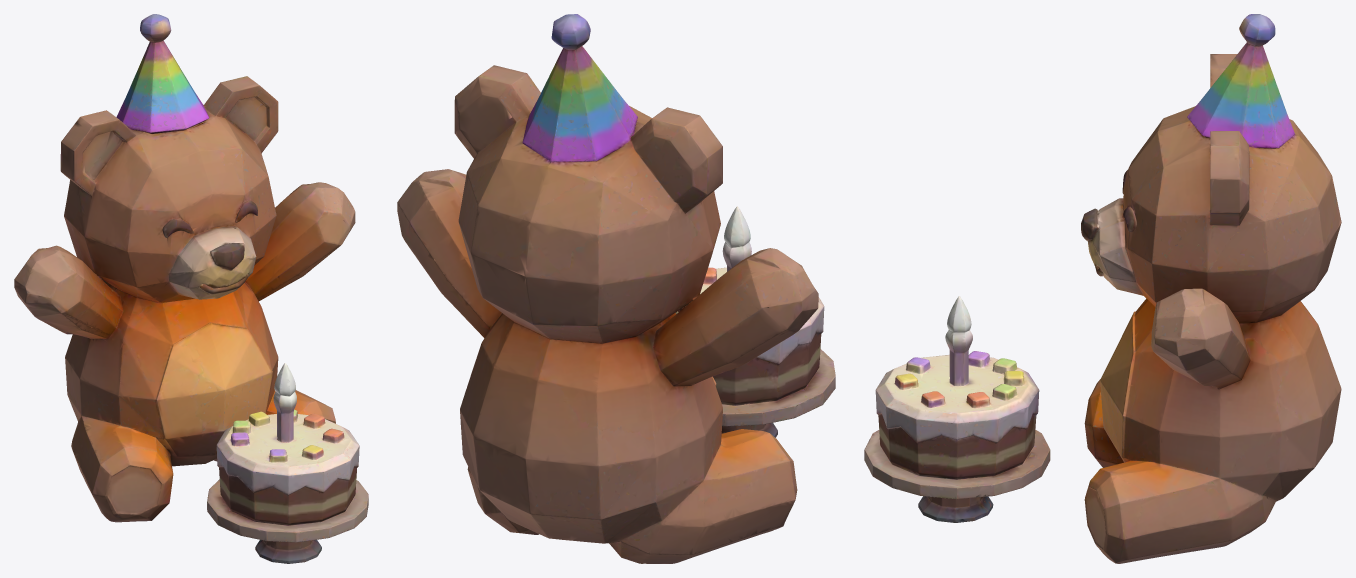
File: tedi.glb
The picture shows the model from 3 angles, left to right: view 1: azimuth 30°, elevation 25°; view 2: azimuth 150°, elevation 25°; view 3: azimuth 270°, elevation 25°; orthographic projection. The views are drawn at different scales.
Visible parts, largest first — view 1: node_0; view 2: node_0; view 3: node_0.
Part boxes in pixels (bbox=[...]): node_0: bbox=[14, 14, 368, 563]; node_0: bbox=[397, 14, 835, 563]; node_0: bbox=[864, 14, 1341, 563].
Size of the model in its own units: 0.789 by 1.01 by 0.8757.
1 material, 1 textured.
